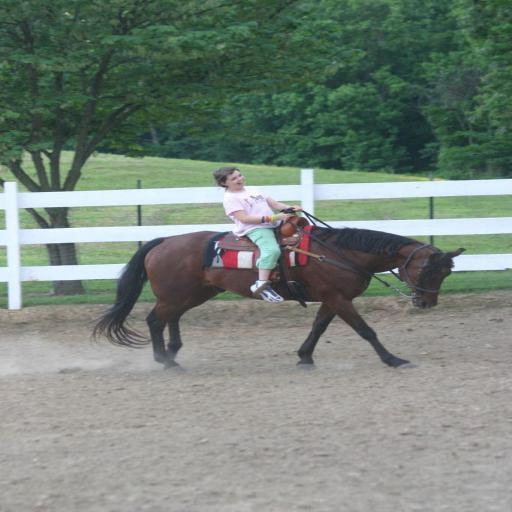horse: (86, 224, 466, 374)
